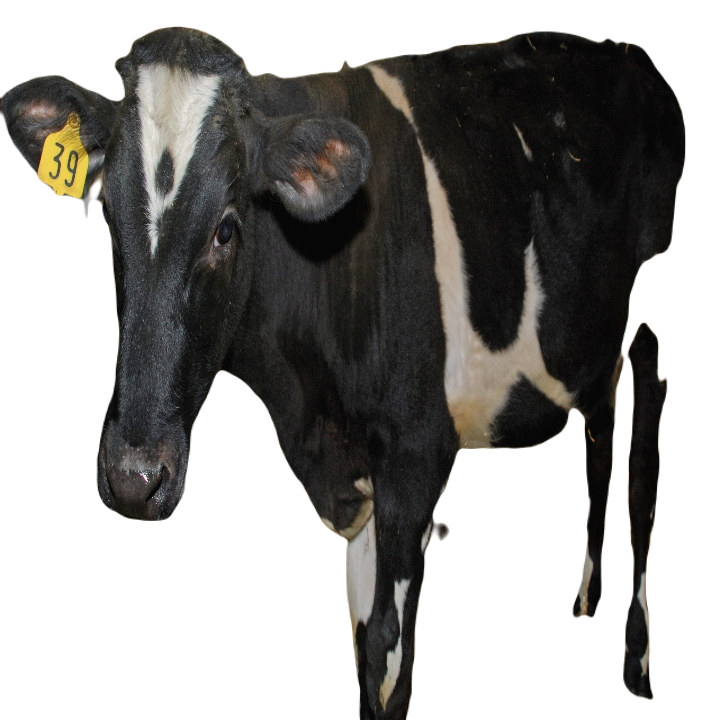Cow: (0, 28, 687, 719)
